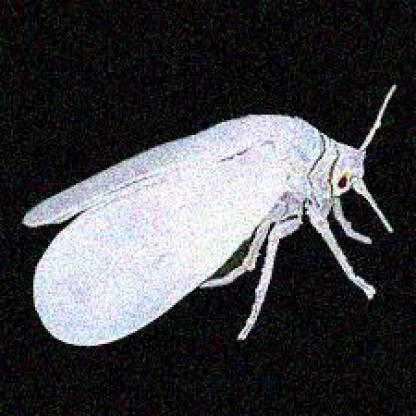whitefly: (25, 114, 370, 345)
